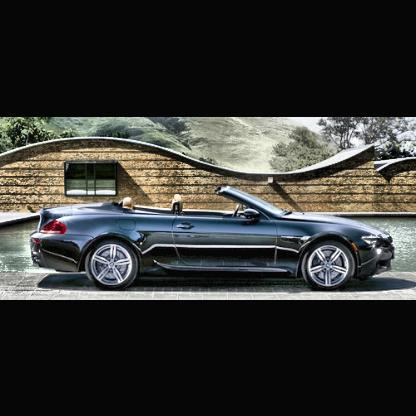BMW M6 Convertible 2010: (24, 171, 409, 299)
